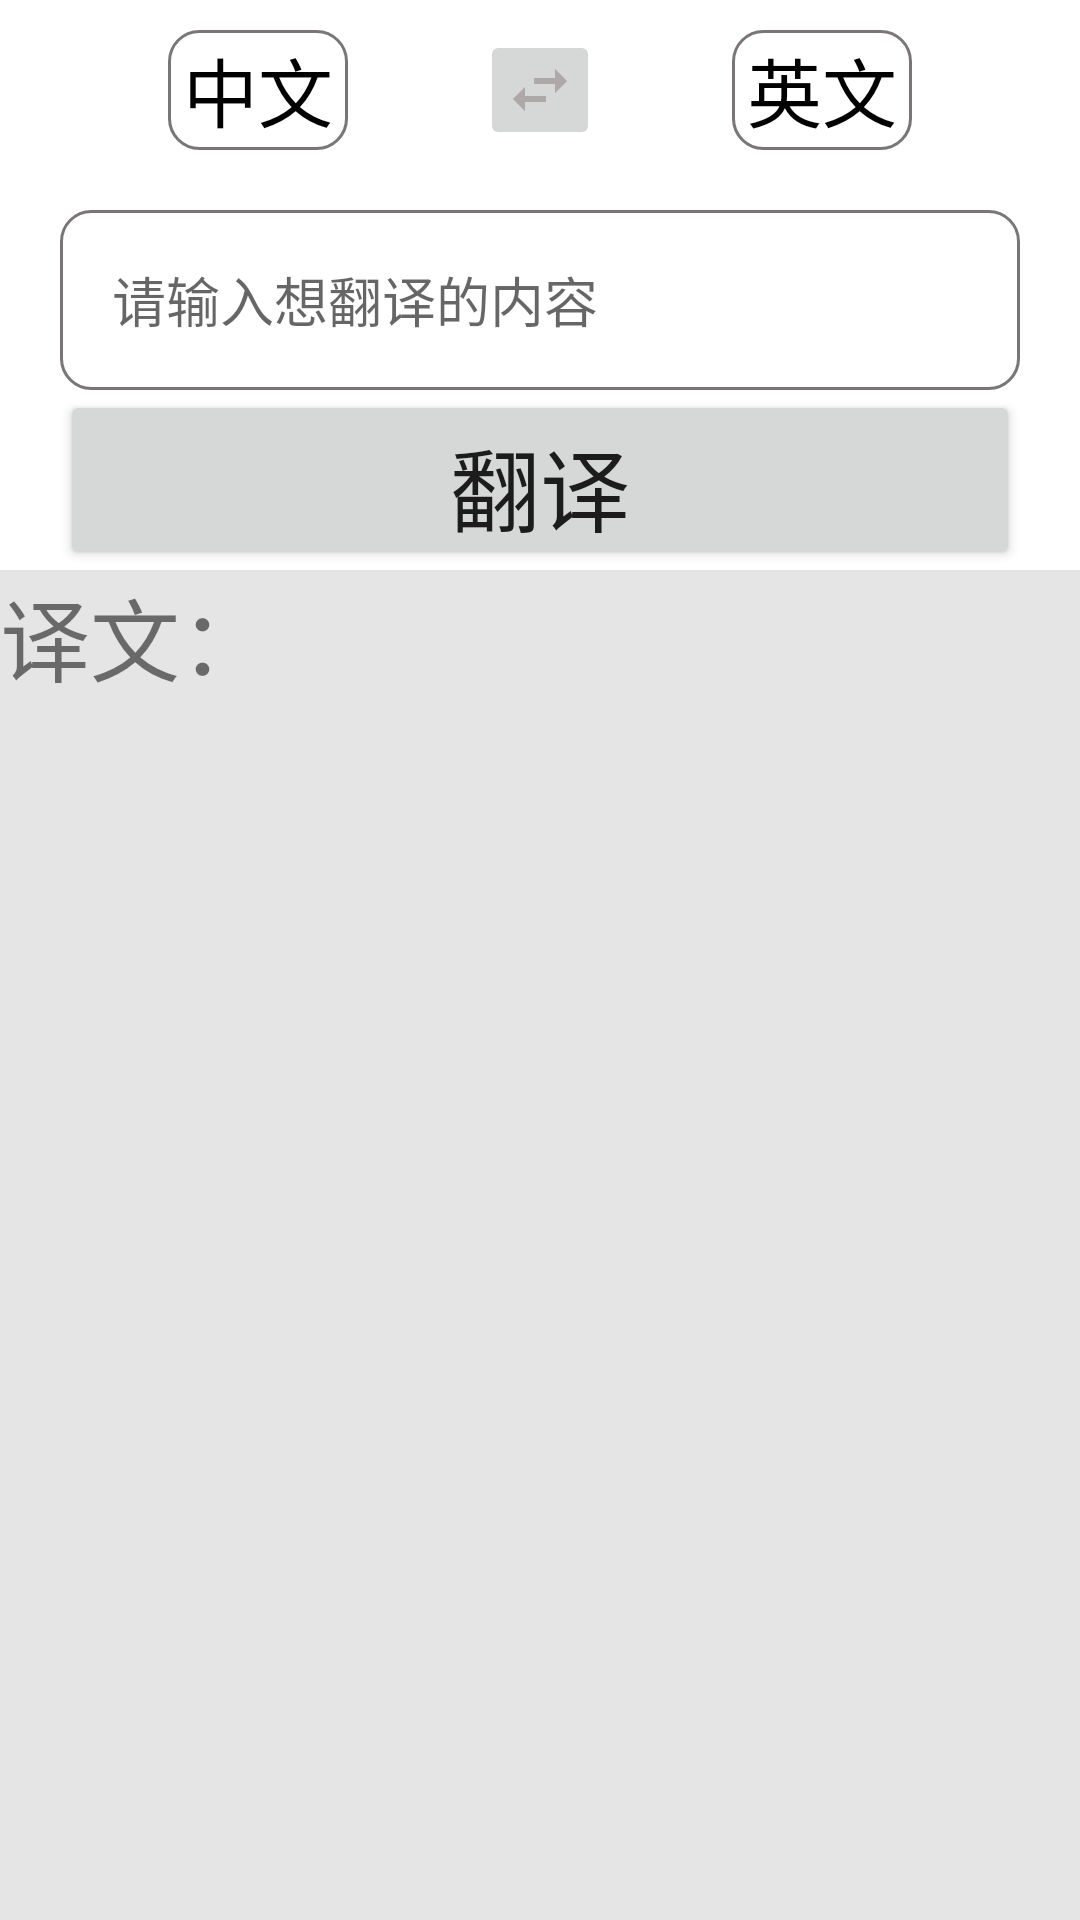

Screen size 1080px×1920px. Icon name, then its center in pixels as [x,y]:
change: [540,90]
